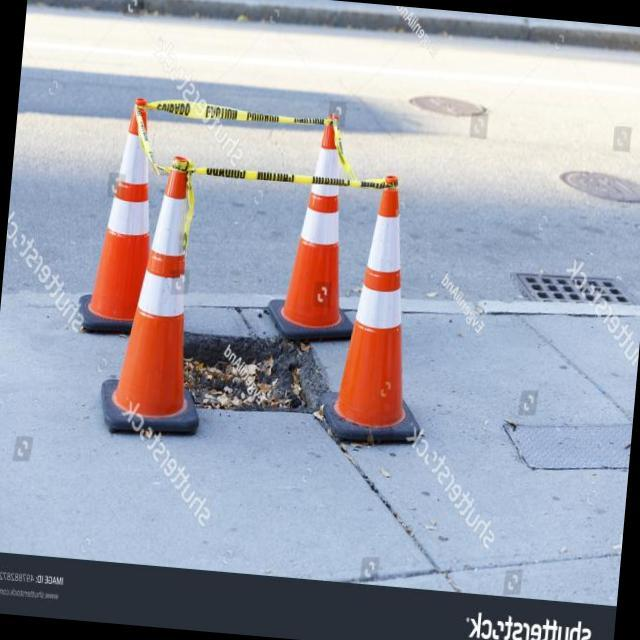Pothole: (182, 321, 332, 418)
